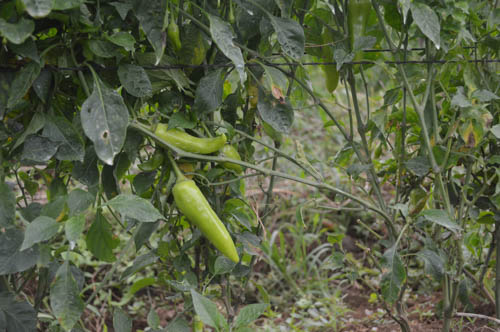ChiliPepper: (174, 179, 240, 267), (154, 123, 225, 154), (344, 2, 368, 71), (219, 144, 249, 169)
